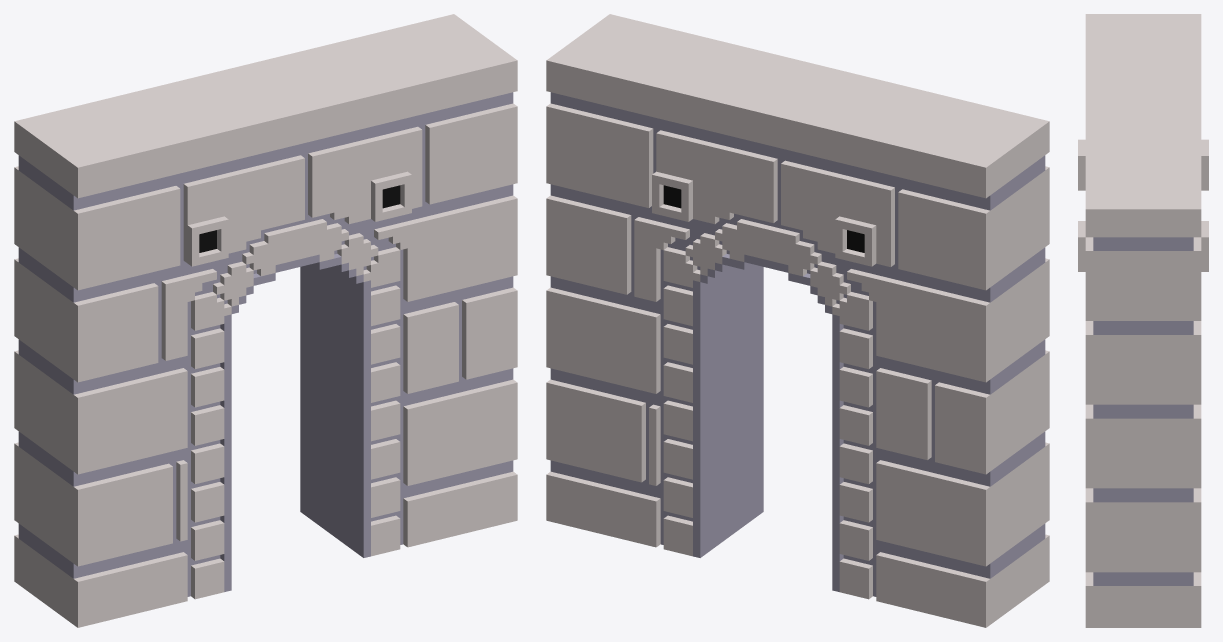
The model's file is WallDrawbridge.obj.
3 views of the same model, side by side, from view 1: azimuth 30°, elevation 25°; view 2: azimuth 150°, elevation 25°; view 3: azimuth 270°, elevation 25° (orthographic). The views are drawn at different scales.
Size of the model in its own units: 6 by 6 by 1.7.
1 material, 1 textured.
